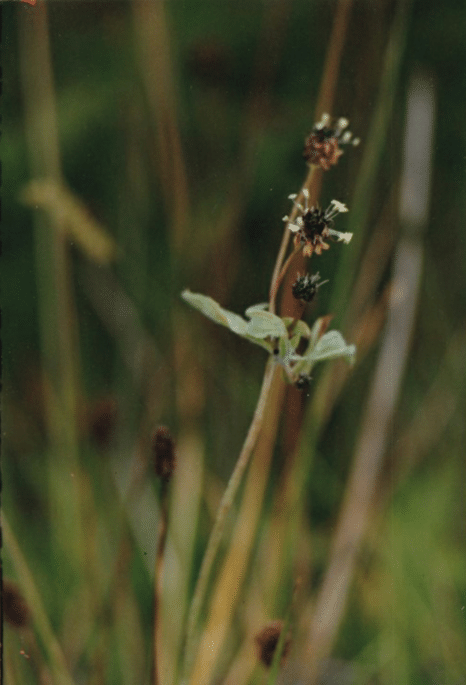buckhorn plantain: (247, 111, 357, 470)
